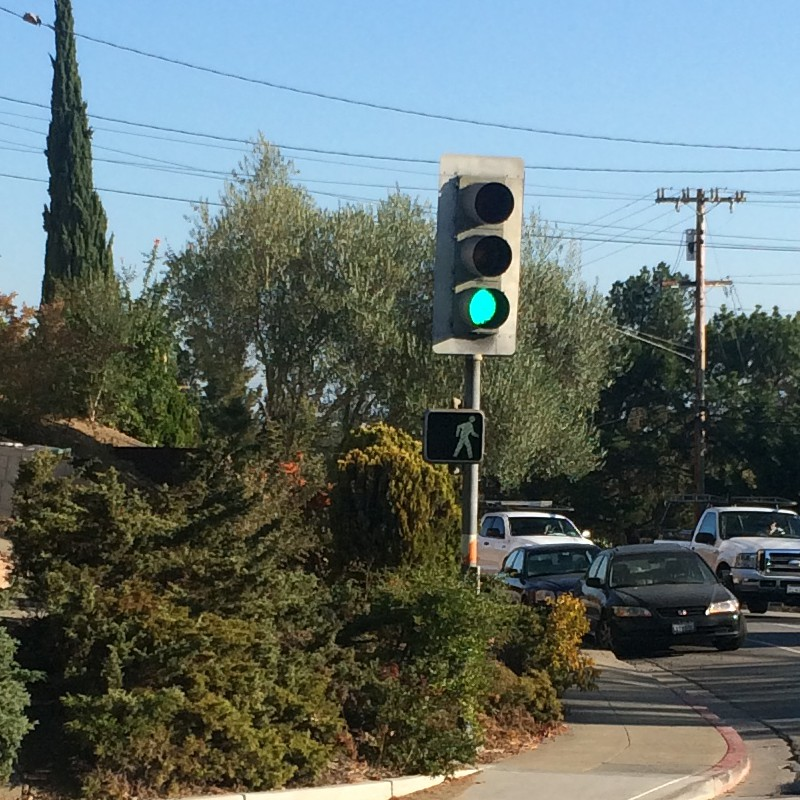go: (417, 404, 492, 469)
